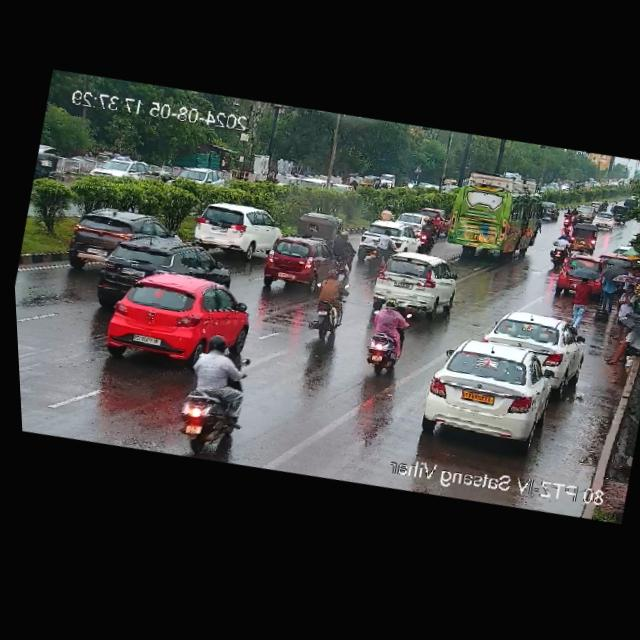bus: (432, 159, 552, 270)
car: (92, 251, 267, 389), (409, 322, 562, 456), (90, 219, 243, 312), (56, 195, 187, 288), (482, 300, 590, 386), (359, 240, 462, 323), (186, 189, 287, 265), (254, 227, 342, 302), (348, 213, 421, 264), (551, 247, 612, 308), (85, 144, 153, 197), (169, 156, 227, 197), (293, 208, 342, 246), (562, 218, 600, 255), (30, 141, 58, 190), (19, 357, 33, 429), (393, 208, 429, 232), (588, 208, 617, 235), (604, 201, 633, 227), (567, 201, 598, 223), (535, 199, 559, 223)
motorcycle: (175, 324, 259, 420), (352, 288, 419, 379), (300, 264, 354, 344), (360, 221, 398, 279), (544, 231, 576, 270), (558, 205, 581, 230)
person: (602, 269, 640, 346), (598, 311, 640, 376), (560, 272, 602, 333), (591, 261, 625, 319)
